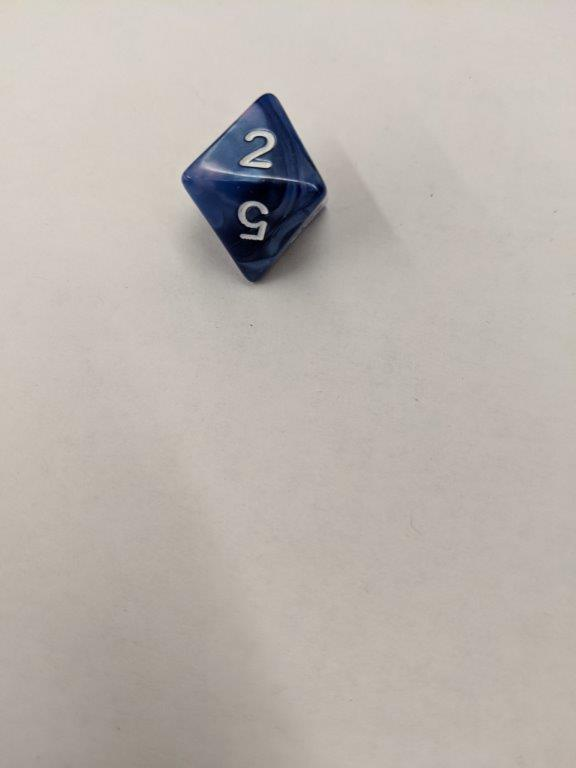d8-2: (179, 91, 329, 282)
